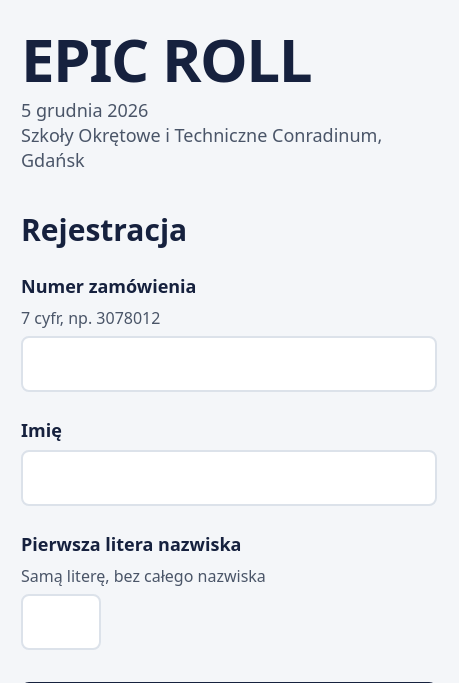
Test: App › informacja o danych jest pod formularzem, a nie na ekranie z ID (N6)
In the field labelled "Numer zamówienia": (229, 364) [21, 336, 437, 392], type "3023 567"
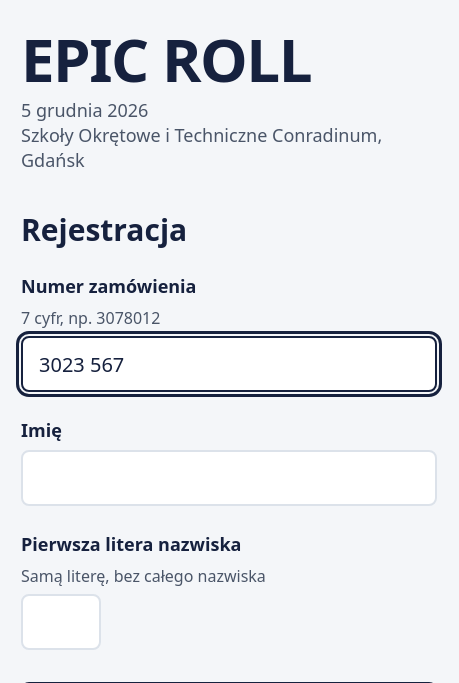
In the field labelled "Imię": (229, 478) [21, 450, 437, 506], type " Jasmina "
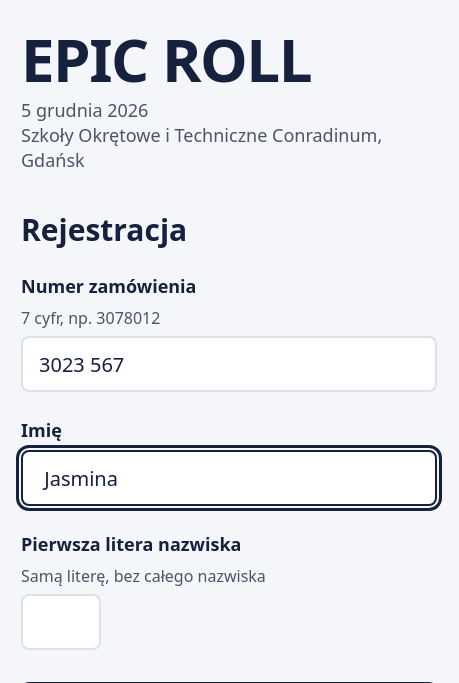
In the field labelled "Pierwsza litera nazwiska": (61, 622) [21, 594, 101, 650], type "k"
(page scrolled)
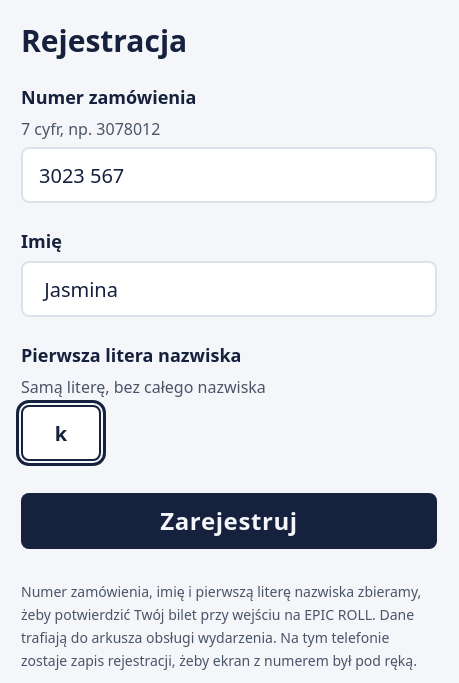
Click the button "Zarejestruj": (229, 521) [21, 493, 437, 549]
(page scrolled)
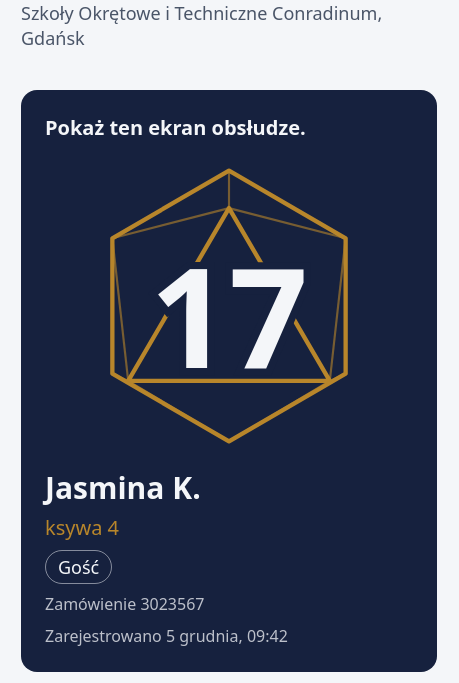
Expected: the picture with test id "registration-id" is shown, [85, 162, 373, 450]
Expected: the text with test id "data-notice" is gone
